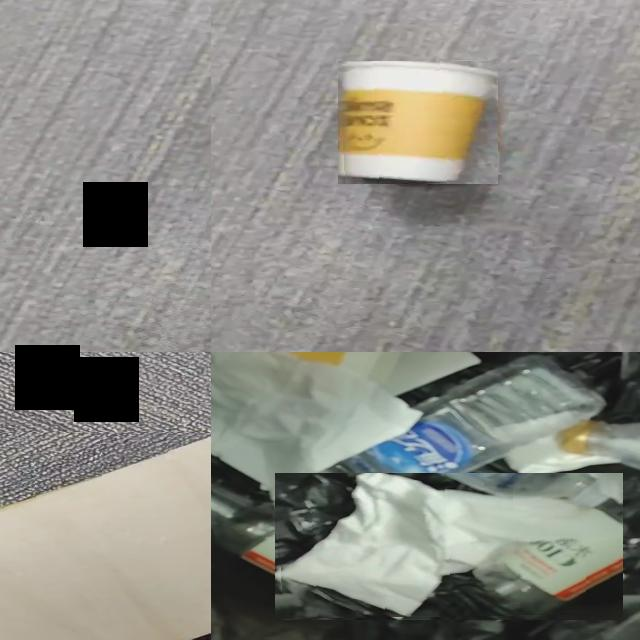bottle: (285, 356, 605, 514), (211, 479, 431, 616), (558, 420, 640, 470)
carton: (0, 440, 211, 640)
dixie_cup: (341, 61, 498, 183), (285, 352, 401, 384)
paper: (280, 473, 623, 618), (211, 352, 420, 510), (493, 411, 613, 476), (377, 352, 479, 395)
